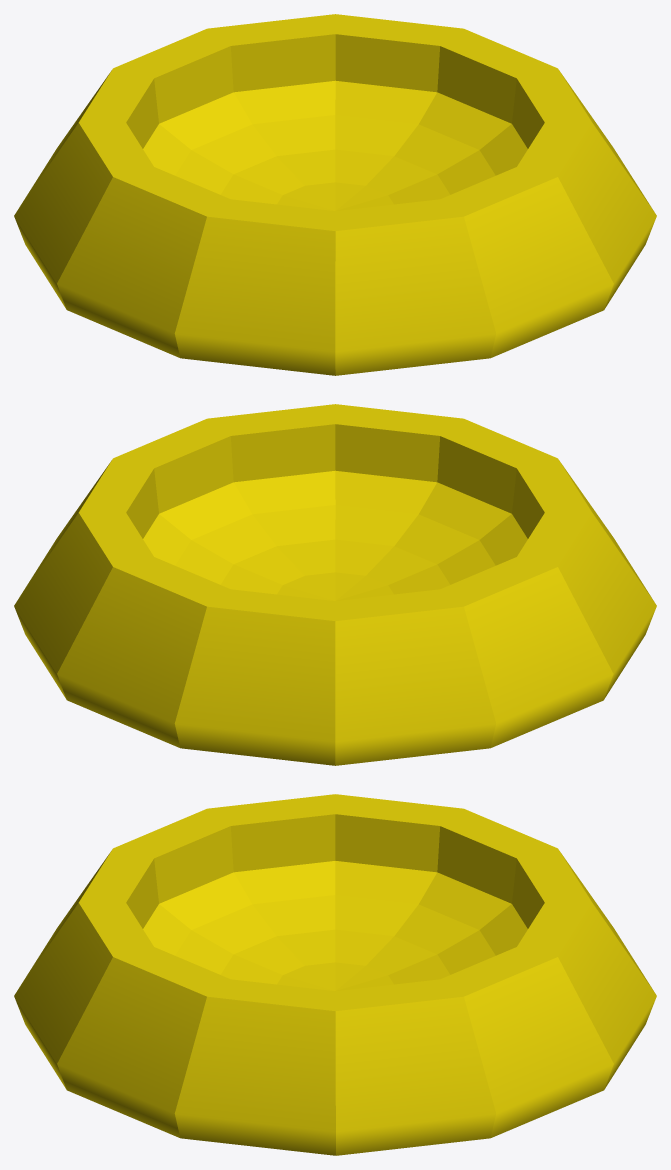
The model's file is Triangle_Hole_03.fbx.
The picture shows the model from 3 angles, top to bottom: view 1: azimuth 30°, elevation 25°; view 2: azimuth 150°, elevation 25°; view 3: azimuth 270°, elevation 25°; orthographic projection.
Visible parts, largest first — view 1: Triangle_Hole_03; view 2: Triangle_Hole_03; view 3: Triangle_Hole_03.
Part boxes in pixels (bbox=[...]): Triangle_Hole_03: bbox=[14, 14, 656, 375]; Triangle_Hole_03: bbox=[14, 404, 656, 765]; Triangle_Hole_03: bbox=[14, 794, 656, 1155].
Size of the model in its own units: 9.58 by 2.01 by 9.58.
